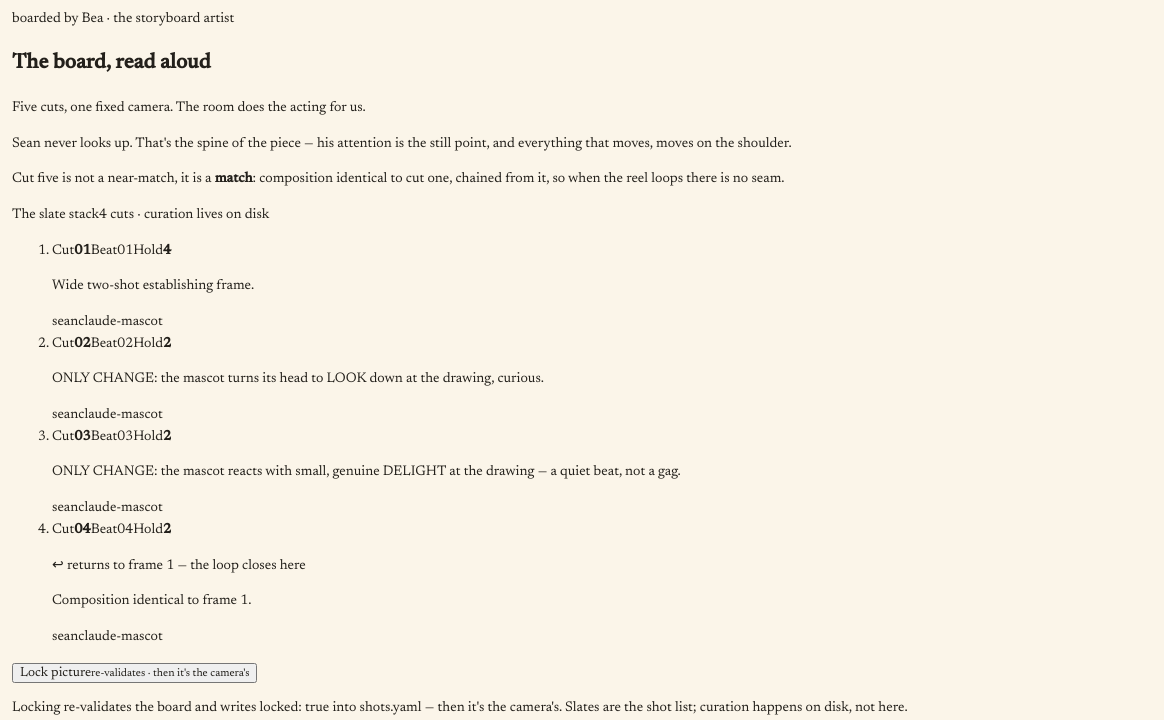
Test case: StoryboardGate — Lock picture -> leader -> terminal (U3's hook, wired) › 409-busy offers to watch the running job
(page scrolled)
Expected: the text "Five cuts, one fixed camera" is shown, left=12, top=101, right=366, bottom=115
Click the button "Lock picture" at (135, 673), box left=12, top=663, right=257, bottom=683
(page scrolled)
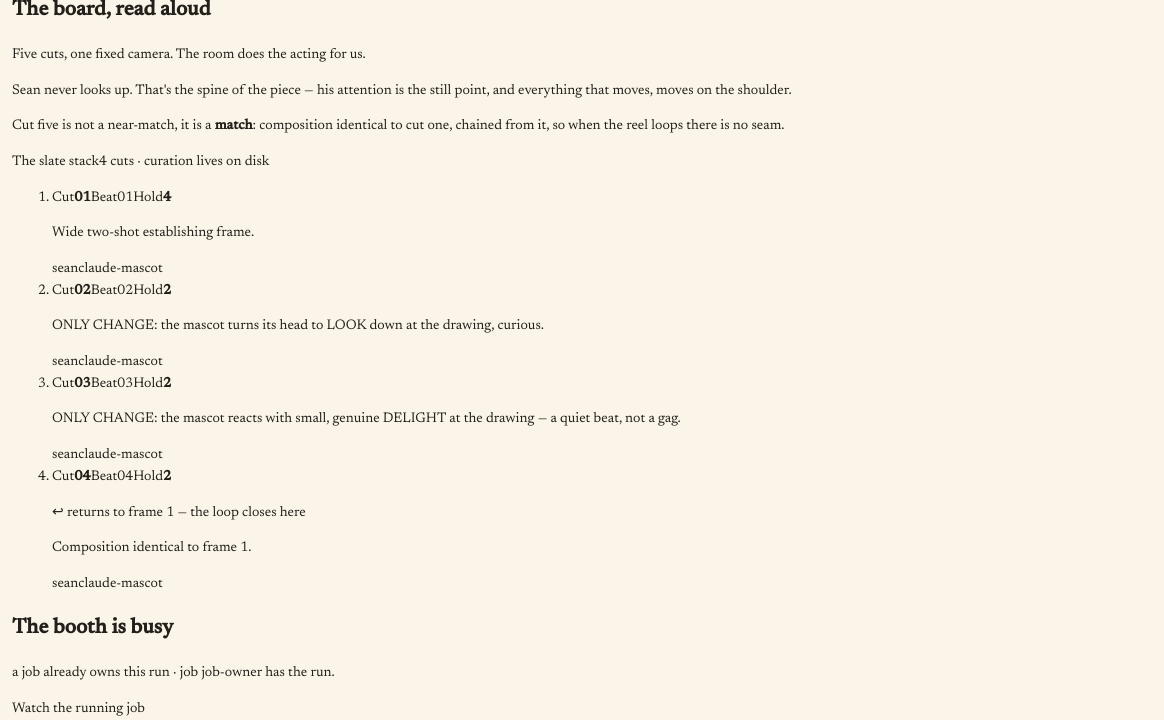
Result: the heading "The booth is busy" is shown at left=12, top=618, right=173, bottom=639
